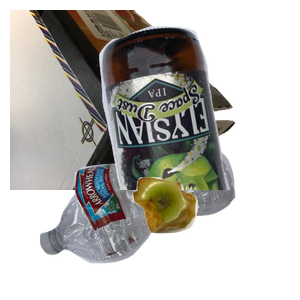cardboard: (10, 10, 238, 190)
glass: (97, 24, 300, 204)
plastic: (37, 144, 265, 300)
trash: (130, 175, 300, 300)
